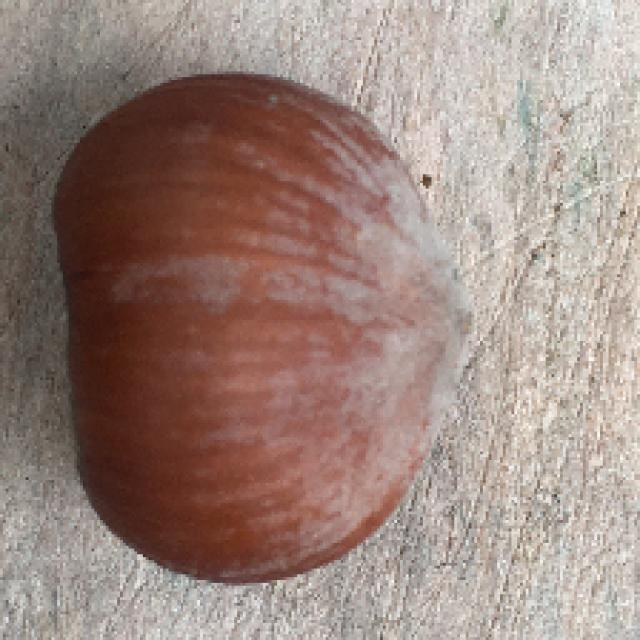hazelnut: (53, 65, 484, 590)
